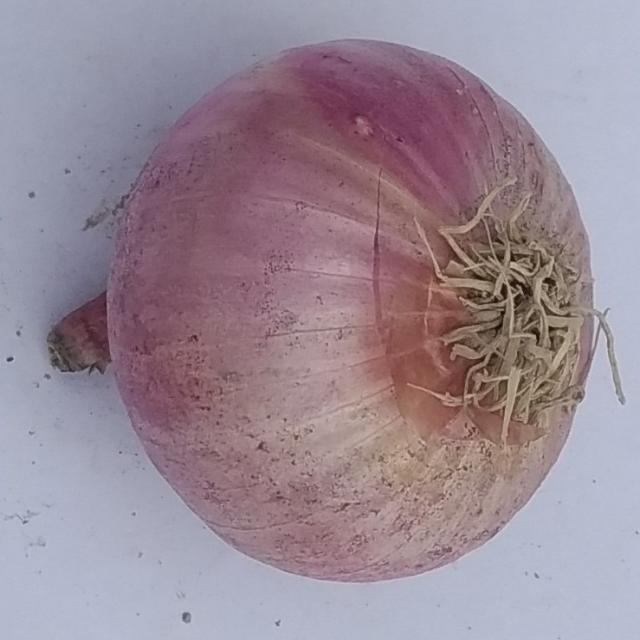onion: (45, 38, 631, 586)
